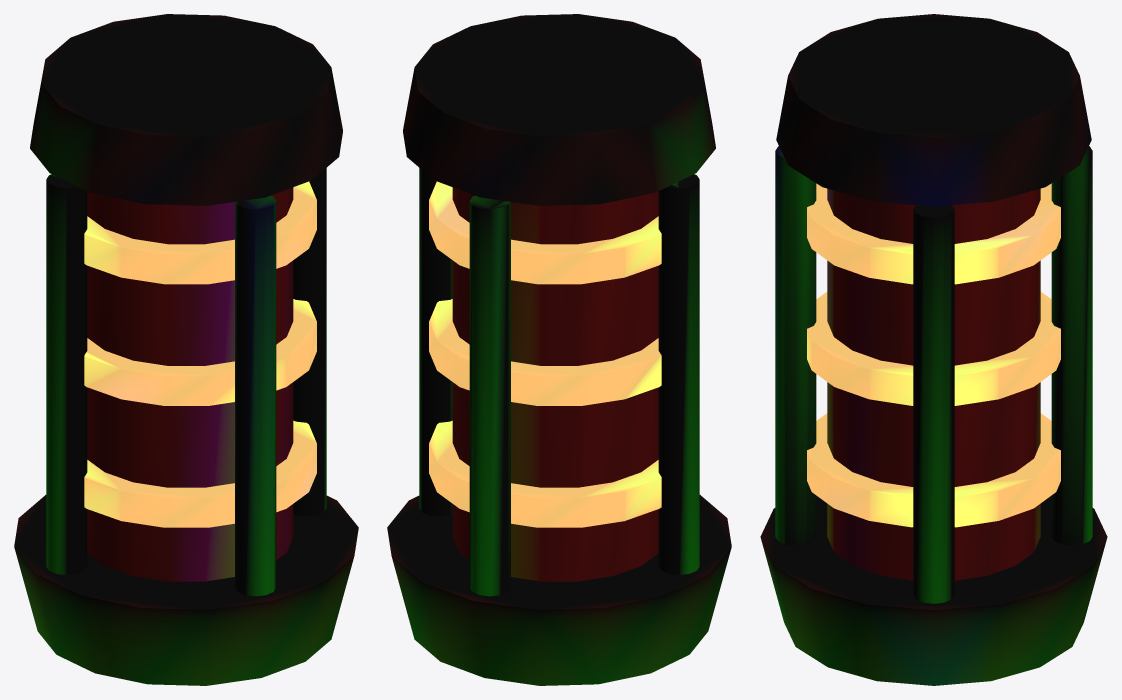
Rendered from hero_reactor_turbine.glb.
3 views of the same model, side by side, from view 1: azimuth 30°, elevation 25°; view 2: azimuth 150°, elevation 25°; view 3: azimuth 270°, elevation 25° (orthographic).
Visible parts, largest first — view 1: HeroReactorTurbine; view 2: HeroReactorTurbine; view 3: HeroReactorTurbine.
Part boxes in pixels (left/top/right/bottom): HeroReactorTurbine: left=14, top=14, right=358, bottom=685; HeroReactorTurbine: left=387, top=14, right=731, bottom=685; HeroReactorTurbine: left=760, top=14, right=1107, bottom=685.
Size of the model in its own units: 4.4 by 7.65 by 4.4.
